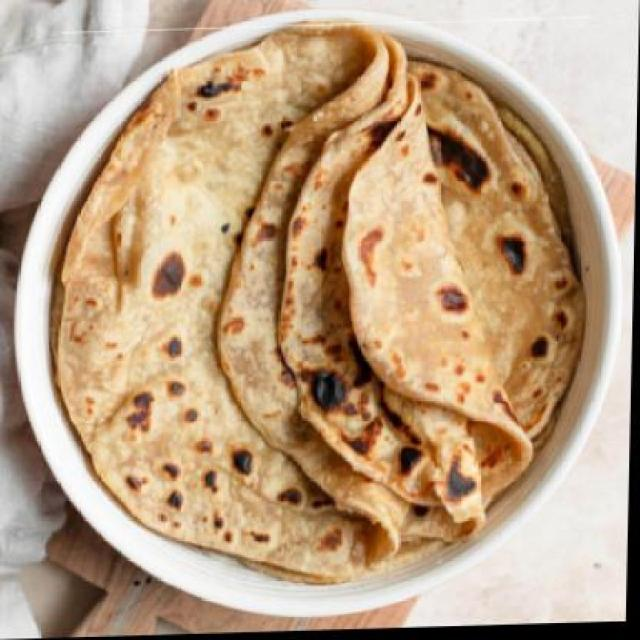chapati: (51, 20, 594, 591)
